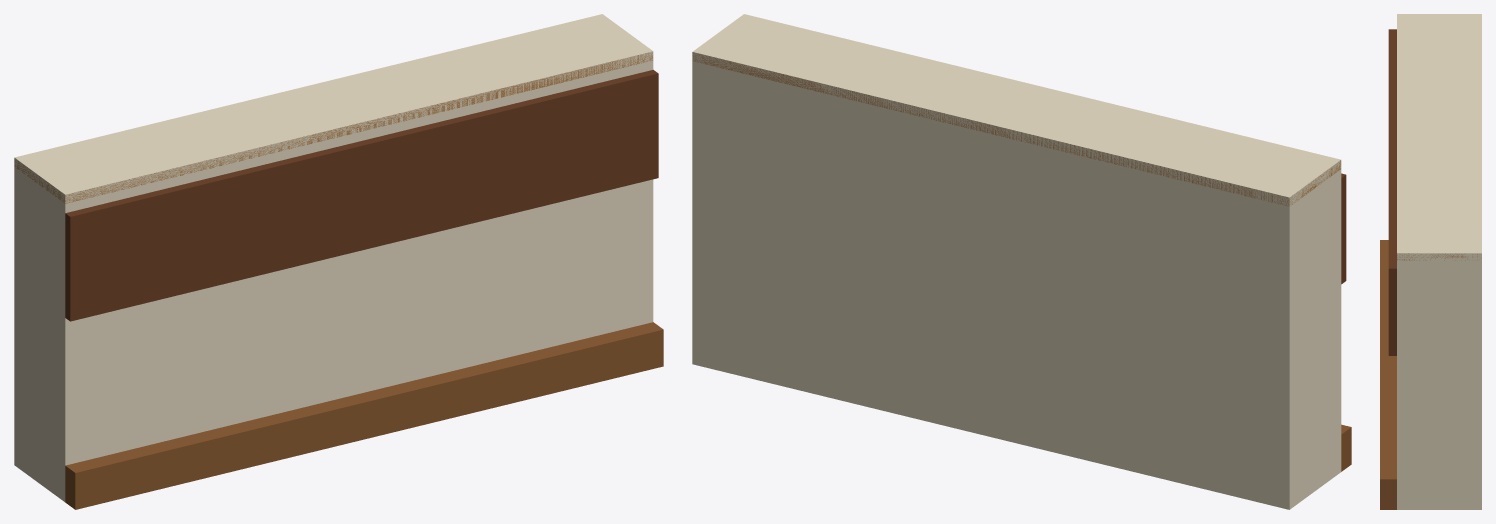
File: wall.glb
3 renders of one model, left to right at view 1: azimuth 30°, elevation 25°; view 2: azimuth 150°, elevation 25°; view 3: azimuth 270°, elevation 25°, orthographic. The views are drawn at different scales.
Parts seen in each view (by area): view 1: wall; view 2: wall; view 3: wall.
Boxes of the visible parts, left/top/right/bottom form: wall: left=14, top=14, right=663, bottom=509; wall: left=692, top=14, right=1351, bottom=509; wall: left=1380, top=14, right=1481, bottom=509.
Size of the model in its own units: 1 by 0.5 by 0.18.
1 material, 1 textured.
